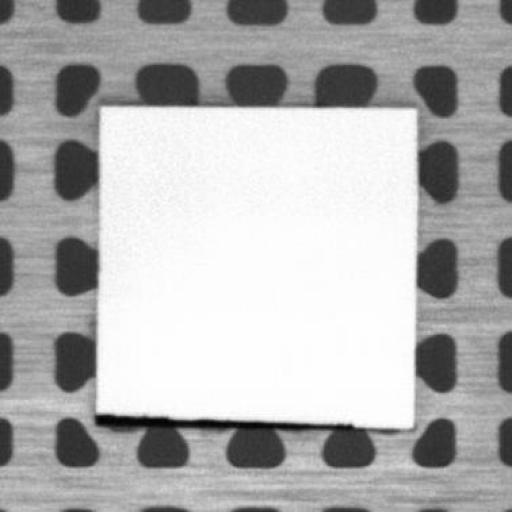DIE_BROKEN: (94, 410, 356, 428)
